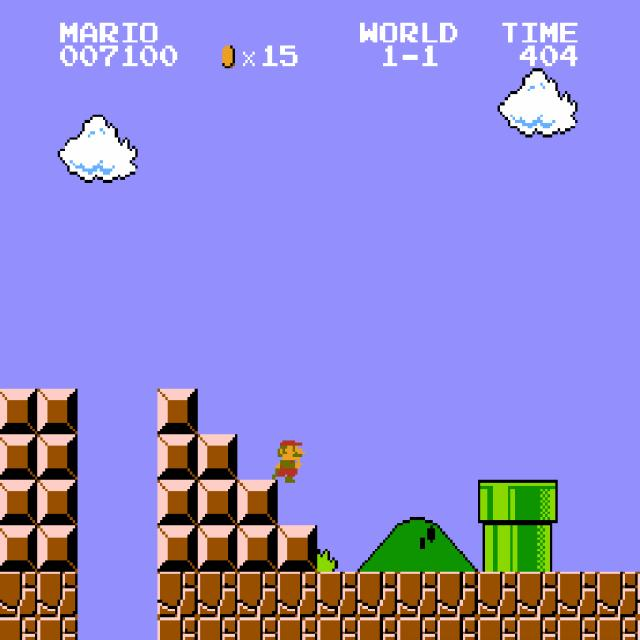hard_block: (37, 434, 78, 480), (37, 480, 78, 526), (157, 434, 198, 480), (157, 480, 198, 526), (197, 434, 238, 480), (197, 480, 238, 526), (237, 480, 278, 526), (37, 389, 78, 434), (37, 526, 78, 571), (157, 389, 198, 434), (157, 526, 198, 571), (197, 526, 238, 571), (237, 526, 278, 571), (277, 526, 318, 571), (0, 434, 37, 480), (0, 480, 37, 526), (0, 389, 37, 434), (0, 526, 37, 571)
little_mario: (265, 434, 308, 483)
pipe: (477, 526, 518, 571), (517, 526, 558, 571)
pipe_head: (477, 480, 518, 526), (517, 480, 558, 526)
undestructible_block: (37, 572, 78, 617), (157, 572, 198, 617), (197, 572, 238, 617), (237, 572, 278, 617), (277, 572, 318, 617), (317, 572, 358, 617), (357, 572, 398, 617), (397, 572, 438, 617), (437, 572, 478, 617), (477, 572, 518, 617), (517, 572, 558, 617), (557, 572, 598, 617), (597, 572, 638, 617), (0, 572, 37, 617), (37, 617, 78, 640), (157, 617, 198, 640), (197, 617, 238, 640), (237, 617, 278, 640), (277, 617, 318, 640), (317, 617, 358, 640), (357, 617, 398, 640), (397, 617, 438, 640), (437, 617, 478, 640), (477, 617, 518, 640), (517, 617, 558, 640), (557, 617, 598, 640), (597, 617, 638, 640), (0, 617, 37, 640), (637, 571, 640, 617), (637, 617, 640, 639)
